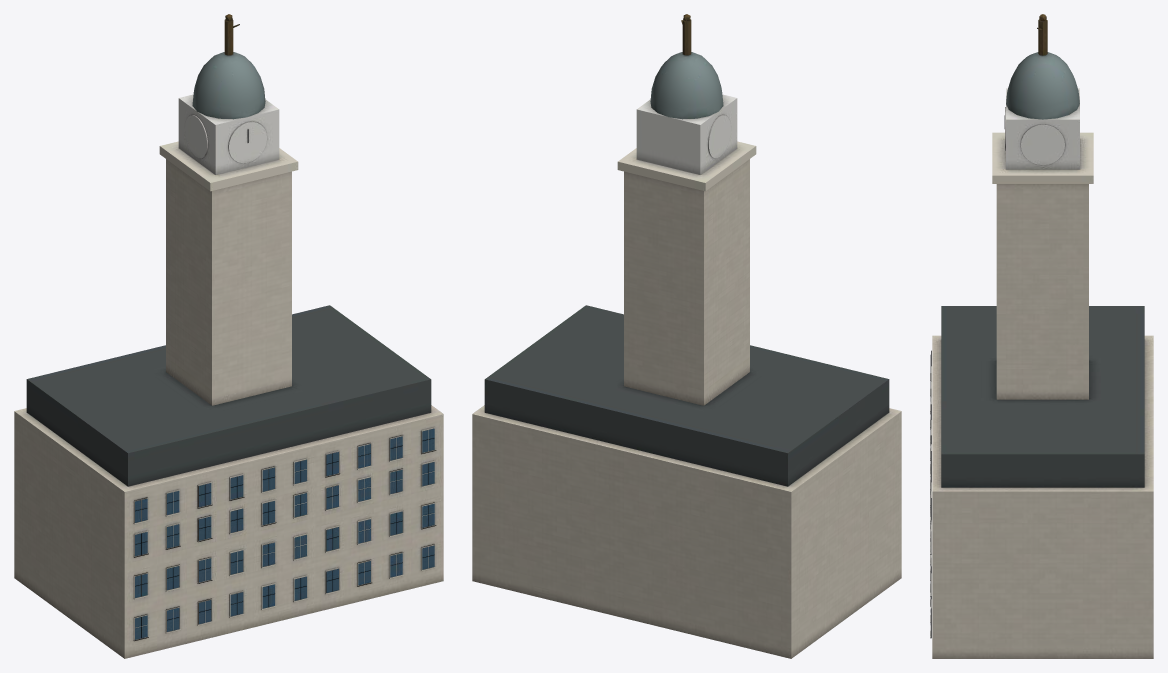
Rendered from ayuntamiento_philly.glb.
3 views of the same model, side by side, from view 1: azimuth 30°, elevation 25°; view 2: azimuth 150°, elevation 25°; view 3: azimuth 270°, elevation 25° (orthographic).
Visible parts, largest first — view 1: ayuntamiento_philly; view 2: ayuntamiento_philly; view 3: ayuntamiento_philly.
Boxes of the visible parts, x1,y1,x2,y2 form: ayuntamiento_philly: (14, 14, 443, 658); ayuntamiento_philly: (472, 14, 901, 658); ayuntamiento_philly: (930, 14, 1153, 658).
Size of the model in its own units: 40 by 67.75 by 24.21.
Materials: 1 (1 with a texture image).
